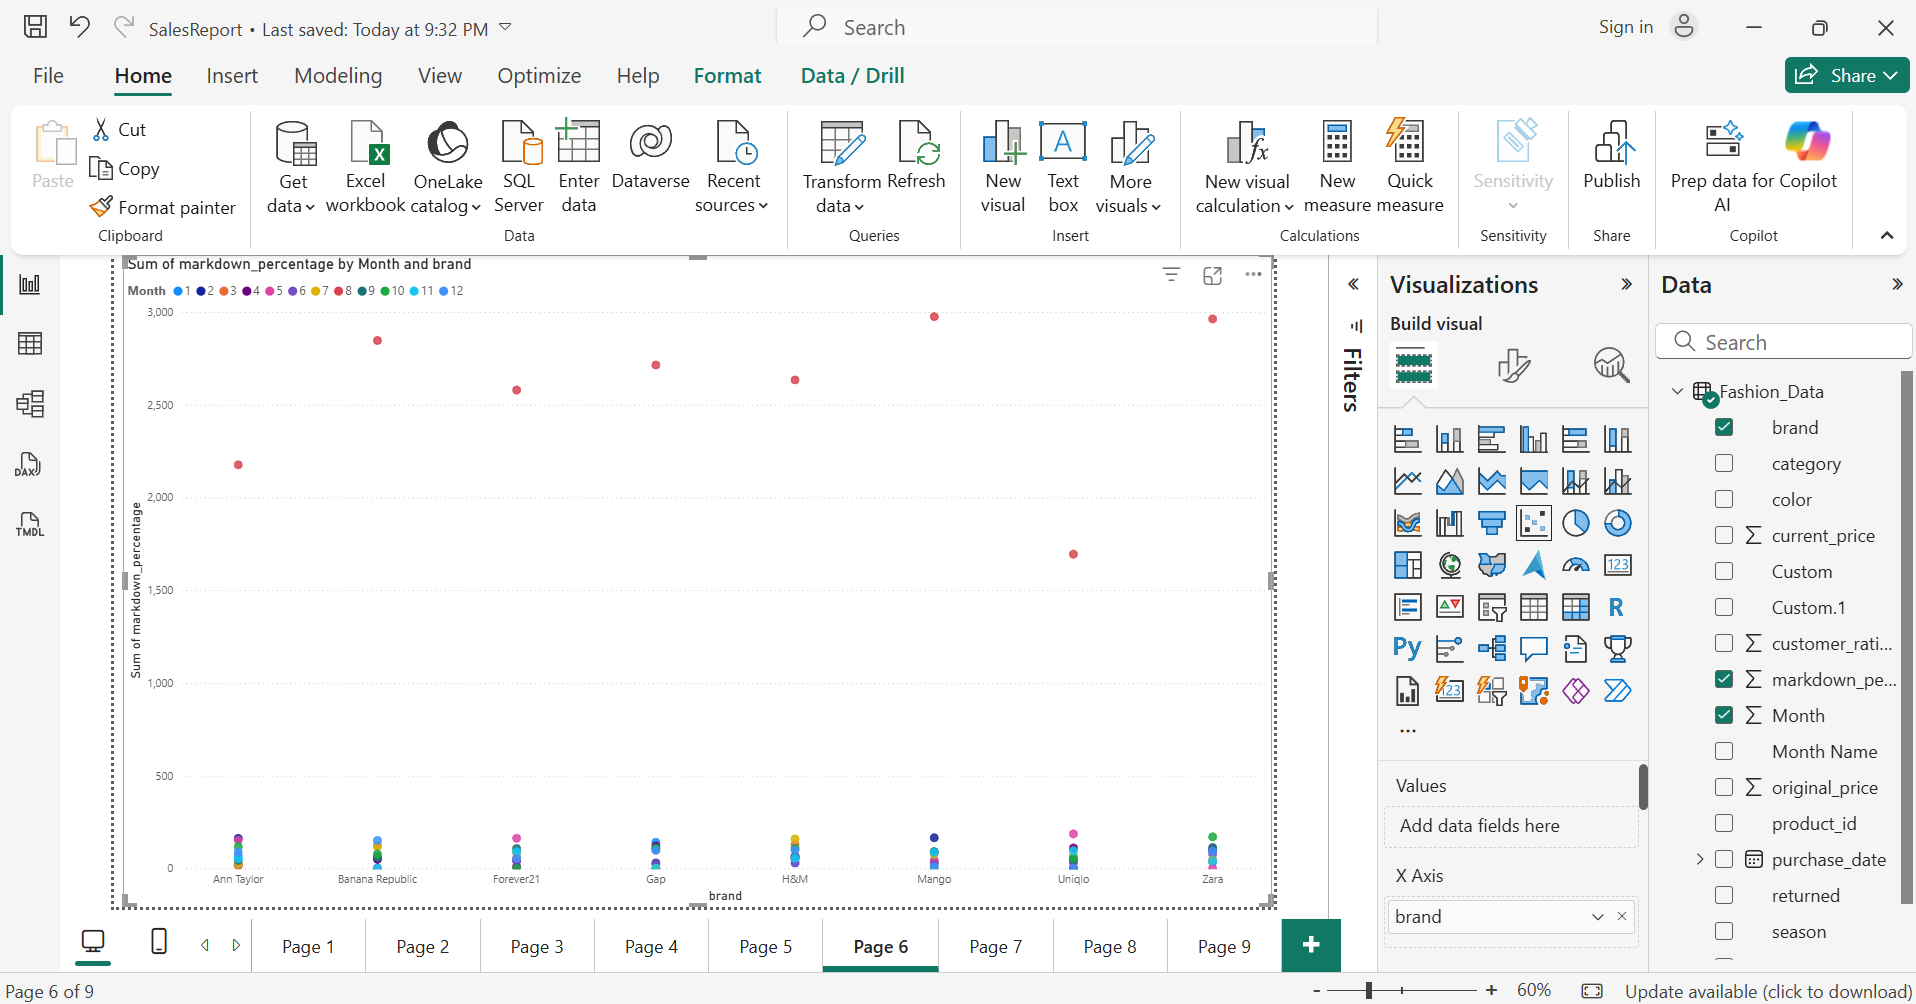

Layout of this report page (visuals, bound fields, positions):
{"tool":"powerbi","page":{"name":"Page 6","canvas":[1280,720],"ordinal":5},"visuals":[{"type":"scatterChart","fields":{"Y":["Sum(Fashion_Data.markdown_percentage)"],"Series":["Fashion_Data.Month"],"X":["Fashion_Data.brand"]},"box":[9.4,0,1269.9,720],"z":0}]}

Visuals, with their boxes on the page's 1280x720 design canvas (x1, y1, x2, y2). These are canvas units, not pixel positions in the 1916x1004 screenshot, which may show the page scaled, cropped or inside an application window:
scatterChart - Sum(Fashion_Data.markdown_percentage) x Fashion_Data.Month: <box>9,0,1279,720</box>
